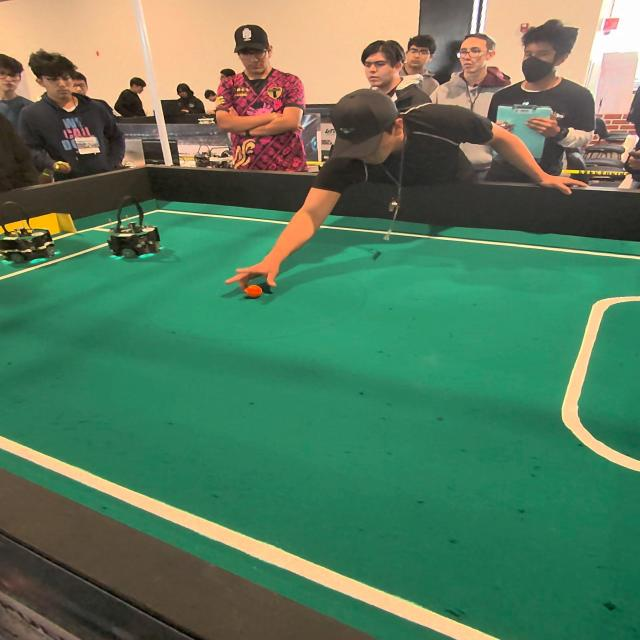Robot: (106, 196, 165, 264), (0, 206, 41, 266)
pelota: (245, 285, 264, 299)
